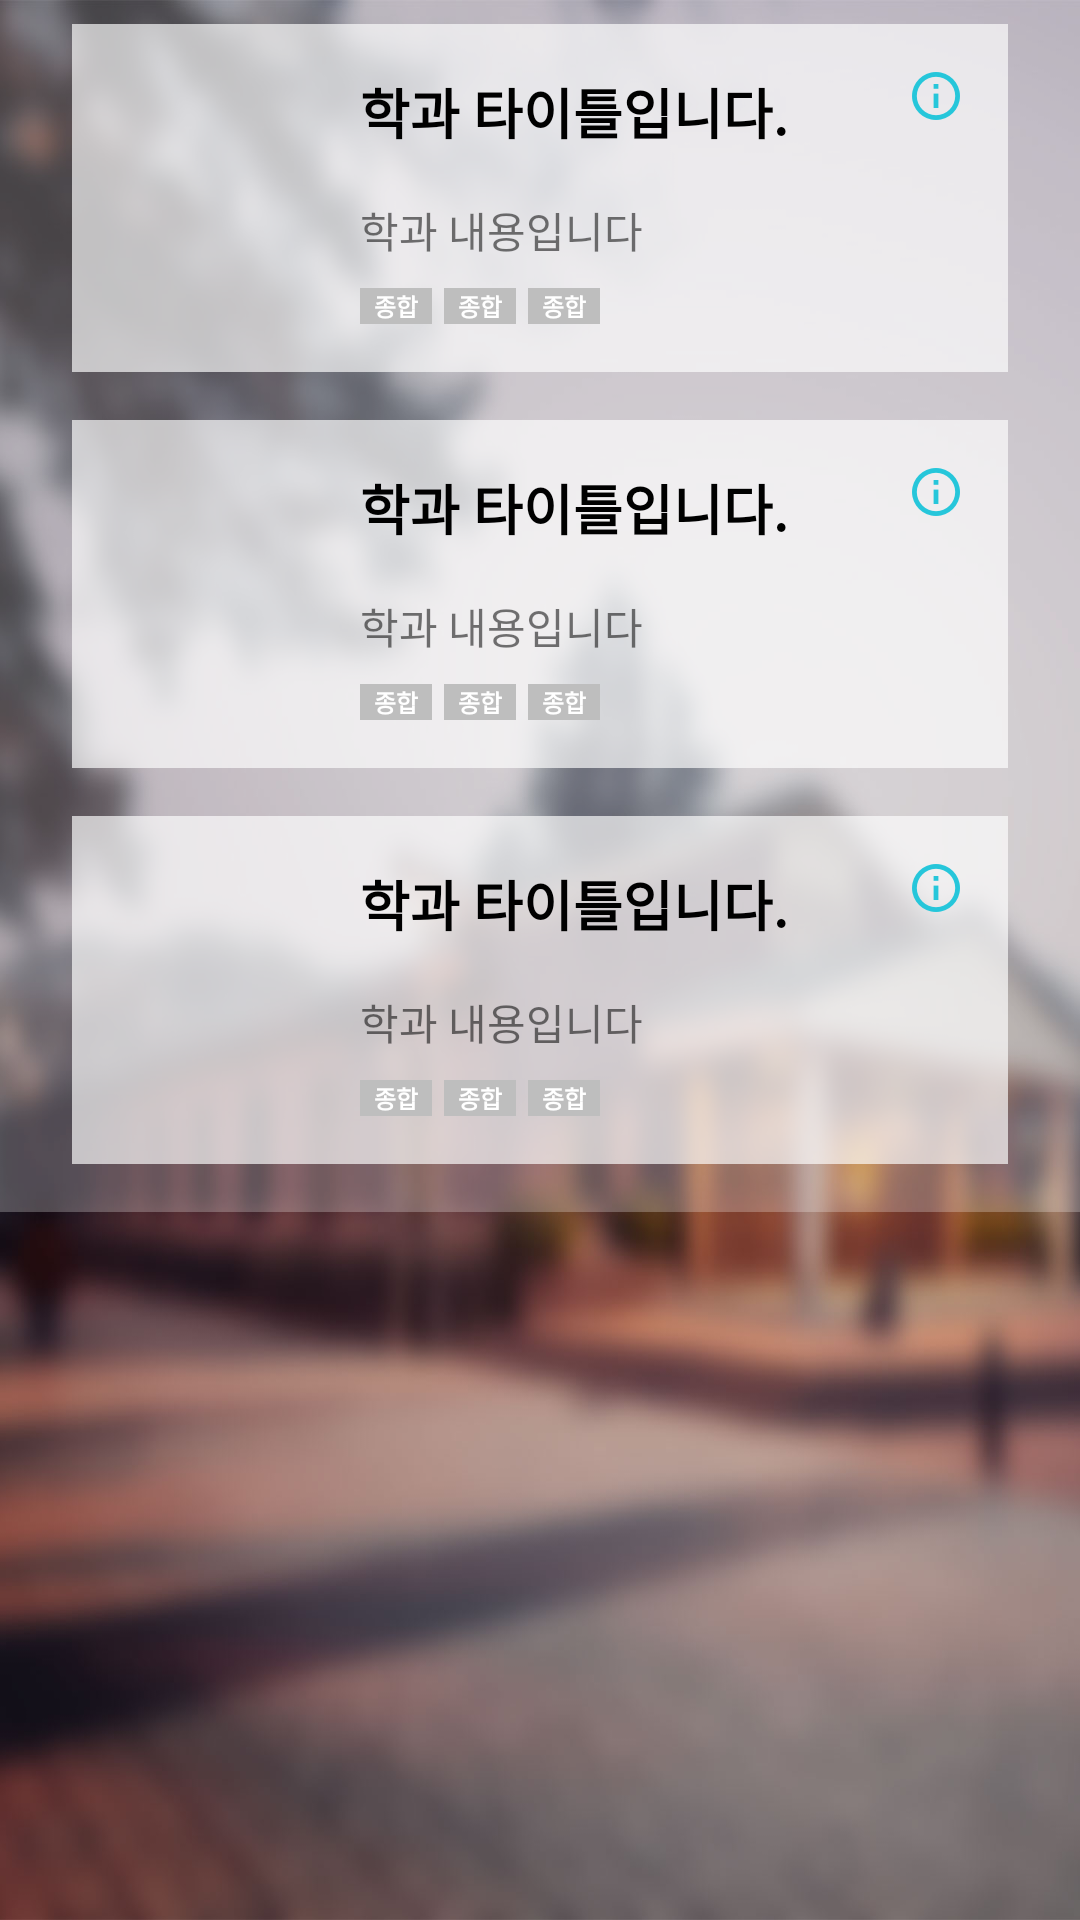

Screen size 1080 x 1920. Icon name, then its center in pixels as (x,y):
information: (936,96), (936,492), (936,888)
